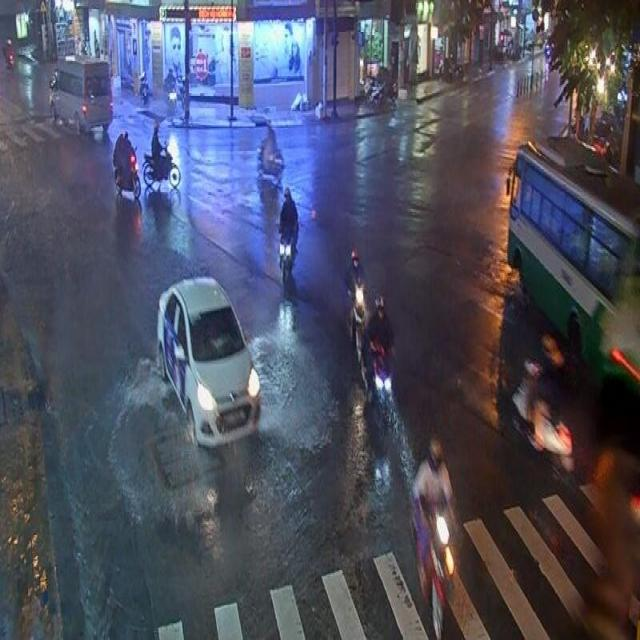bus: (506, 134, 640, 373)
car: (156, 276, 259, 448)
motorcycle: (141, 122, 180, 187), (277, 184, 297, 282)
